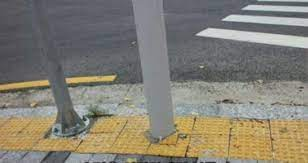guide_blocks: (153, 117, 308, 160), (2, 116, 149, 154)
